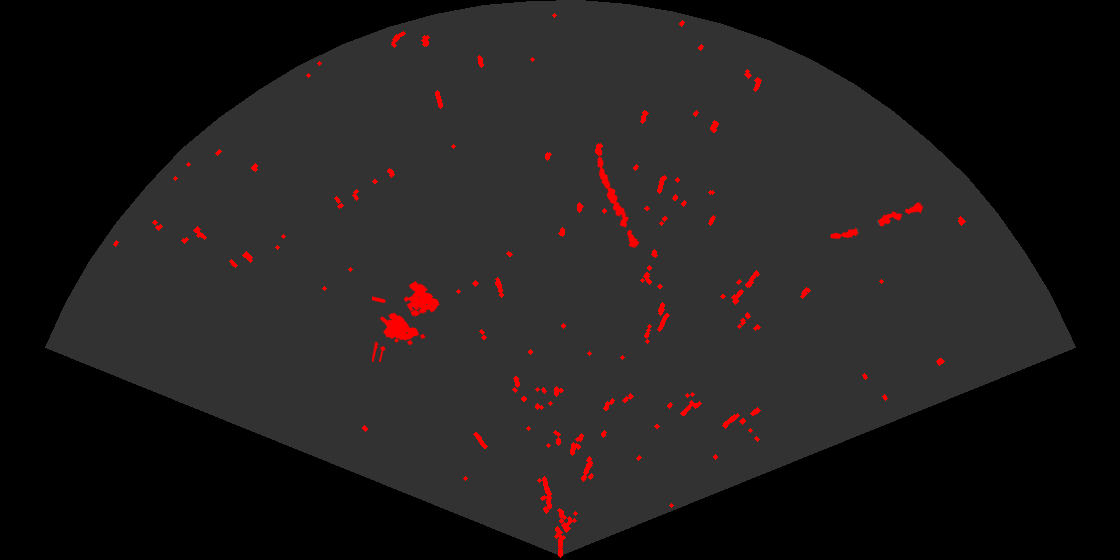cage: (372, 279, 441, 362)
chain: (596, 155, 641, 250), (828, 201, 925, 241)
